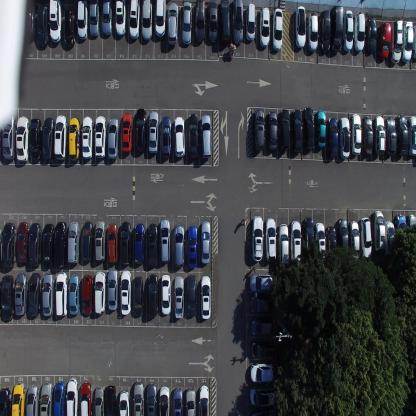car: (0, 221, 17, 269), (0, 274, 15, 321), (330, 5, 344, 54), (2, 113, 16, 161), (54, 220, 67, 269), (389, 19, 403, 64), (251, 215, 264, 263), (54, 113, 67, 161), (14, 272, 28, 316), (16, 115, 29, 162), (29, 221, 42, 267), (22, 0, 36, 42), (55, 272, 68, 317), (372, 210, 386, 251), (206, 0, 219, 44), (16, 222, 29, 266), (249, 387, 276, 408), (277, 222, 289, 269), (396, 113, 409, 156), (401, 20, 414, 63), (264, 216, 276, 262), (250, 361, 274, 384), (394, 214, 406, 260), (303, 106, 315, 152), (120, 221, 132, 267), (120, 270, 132, 316), (42, 272, 54, 318), (28, 272, 40, 318), (250, 294, 276, 315), (378, 21, 392, 60), (251, 340, 278, 360), (294, 4, 306, 49), (232, 0, 244, 45), (68, 116, 80, 161), (94, 271, 106, 316), (186, 273, 198, 317), (290, 219, 302, 263), (303, 216, 315, 260), (219, 0, 231, 44), (166, 1, 178, 45), (36, 3, 48, 47), (160, 116, 172, 160), (134, 108, 146, 152), (107, 116, 119, 160), (81, 116, 93, 160), (42, 116, 54, 160), (30, 118, 42, 162), (133, 222, 145, 266), (147, 274, 159, 318), (67, 220, 79, 264), (250, 318, 276, 338), (63, 6, 76, 46), (292, 107, 303, 154), (360, 216, 372, 259), (194, 0, 206, 43), (49, 0, 61, 43), (200, 274, 211, 320), (200, 113, 211, 159), (326, 116, 338, 158), (338, 116, 350, 158), (353, 11, 365, 53), (76, 0, 88, 42), (81, 220, 93, 262), (81, 274, 93, 316), (11, 379, 25, 415), (249, 272, 274, 292), (148, 110, 159, 155), (95, 114, 106, 159), (147, 222, 158, 267), (107, 267, 118, 312), (43, 222, 54, 267), (66, 377, 79, 415), (128, 0, 140, 41), (94, 220, 106, 261), (39, 380, 53, 415), (267, 110, 278, 154), (174, 223, 185, 267), (319, 10, 330, 54), (272, 8, 283, 52), (114, 0, 127, 37), (314, 221, 326, 261), (374, 115, 386, 155), (350, 113, 361, 156), (133, 275, 144, 318), (188, 113, 198, 160), (385, 219, 396, 261), (307, 11, 318, 53), (259, 6, 270, 48), (174, 115, 185, 157), (107, 222, 118, 264), (338, 216, 348, 262), (182, 0, 192, 46), (365, 15, 377, 53), (154, 0, 166, 38), (79, 380, 92, 415), (362, 115, 373, 156), (121, 112, 132, 153), (200, 220, 210, 265), (187, 224, 197, 269), (160, 219, 170, 264), (254, 108, 264, 152), (174, 275, 184, 319), (279, 108, 289, 152), (70, 272, 80, 316), (326, 224, 336, 267), (406, 213, 416, 256), (343, 9, 353, 52), (161, 273, 171, 316), (349, 220, 359, 262), (142, 0, 152, 42), (316, 109, 326, 150), (53, 381, 65, 415), (101, 0, 112, 37), (386, 116, 396, 156), (245, 2, 255, 42), (146, 382, 158, 415), (133, 380, 144, 415), (105, 383, 117, 415), (26, 383, 38, 415), (89, 0, 99, 38), (158, 386, 170, 416), (0, 386, 11, 416), (199, 384, 209, 416), (118, 389, 130, 415), (185, 387, 196, 415), (408, 115, 415, 158), (94, 386, 104, 416), (172, 388, 183, 415), (249, 410, 276, 416), (412, 23, 416, 60), (0, 113, 3, 157)
